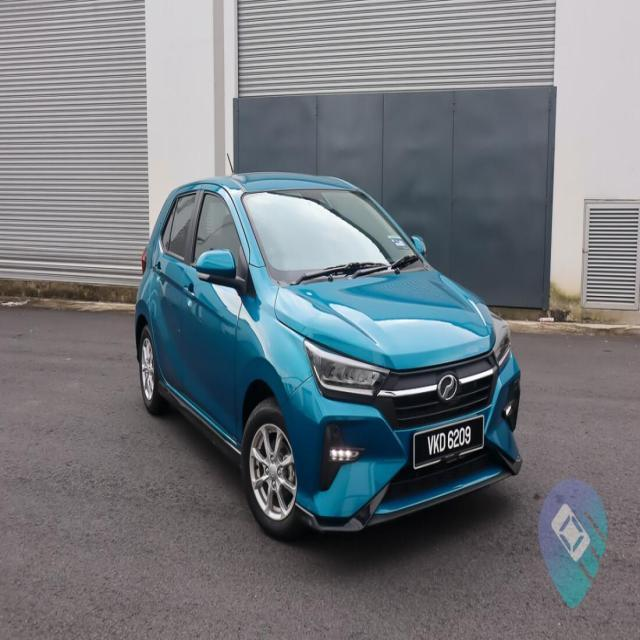PeroduaAxia: (133, 168, 523, 541)
